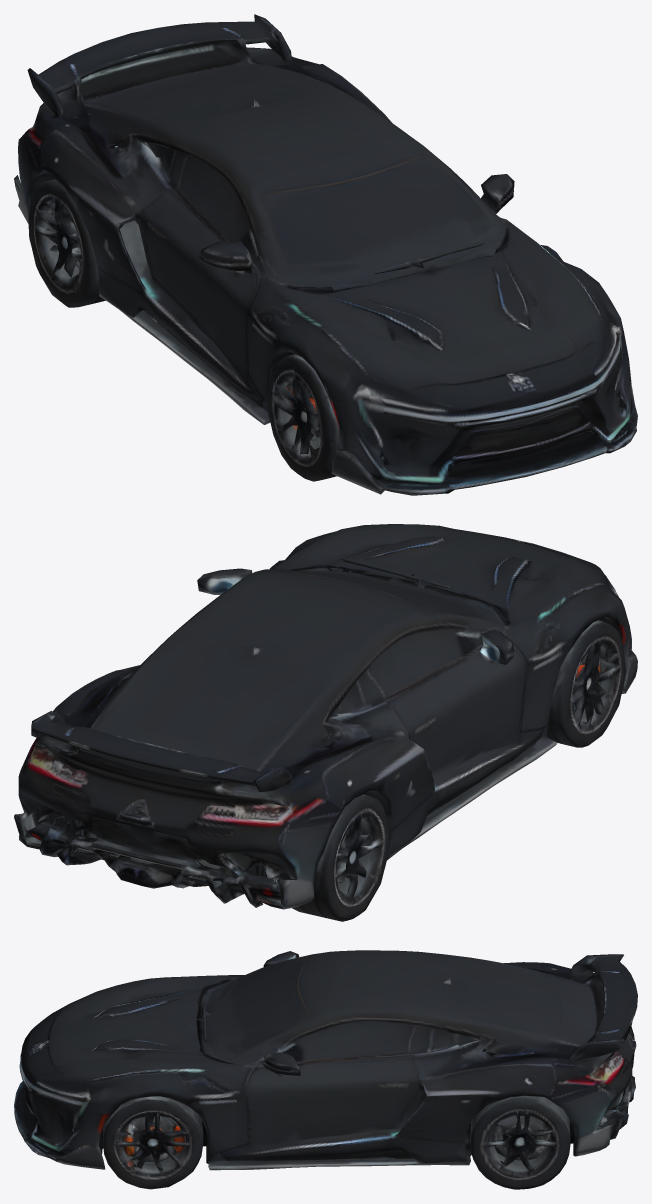
File: au_veh_coupe_cyber.glb
3 views of the same model, one above another, from view 1: azimuth 30°, elevation 25°; view 2: azimuth 150°, elevation 25°; view 3: azimuth 270°, elevation 25° (orthographic). The views are drawn at different scales.
Parts seen in each view (by area): view 1: tripo_node_43498dd3-7a8b-4377-93ea-6989f9c78d9e; view 2: tripo_node_43498dd3-7a8b-4377-93ea-6989f9c78d9e; view 3: tripo_node_43498dd3-7a8b-4377-93ea-6989f9c78d9e.
Boxes of the visible parts, bbox=[...] form: tripo_node_43498dd3-7a8b-4377-93ea-6989f9c78d9e: bbox=[14, 14, 637, 495]; tripo_node_43498dd3-7a8b-4377-93ea-6989f9c78d9e: bbox=[14, 524, 637, 921]; tripo_node_43498dd3-7a8b-4377-93ea-6989f9c78d9e: bbox=[14, 950, 637, 1189].
Size of the model in its own units: 1.91 by 1.2 by 4.3.
Materials: 1 (1 with a texture image).
